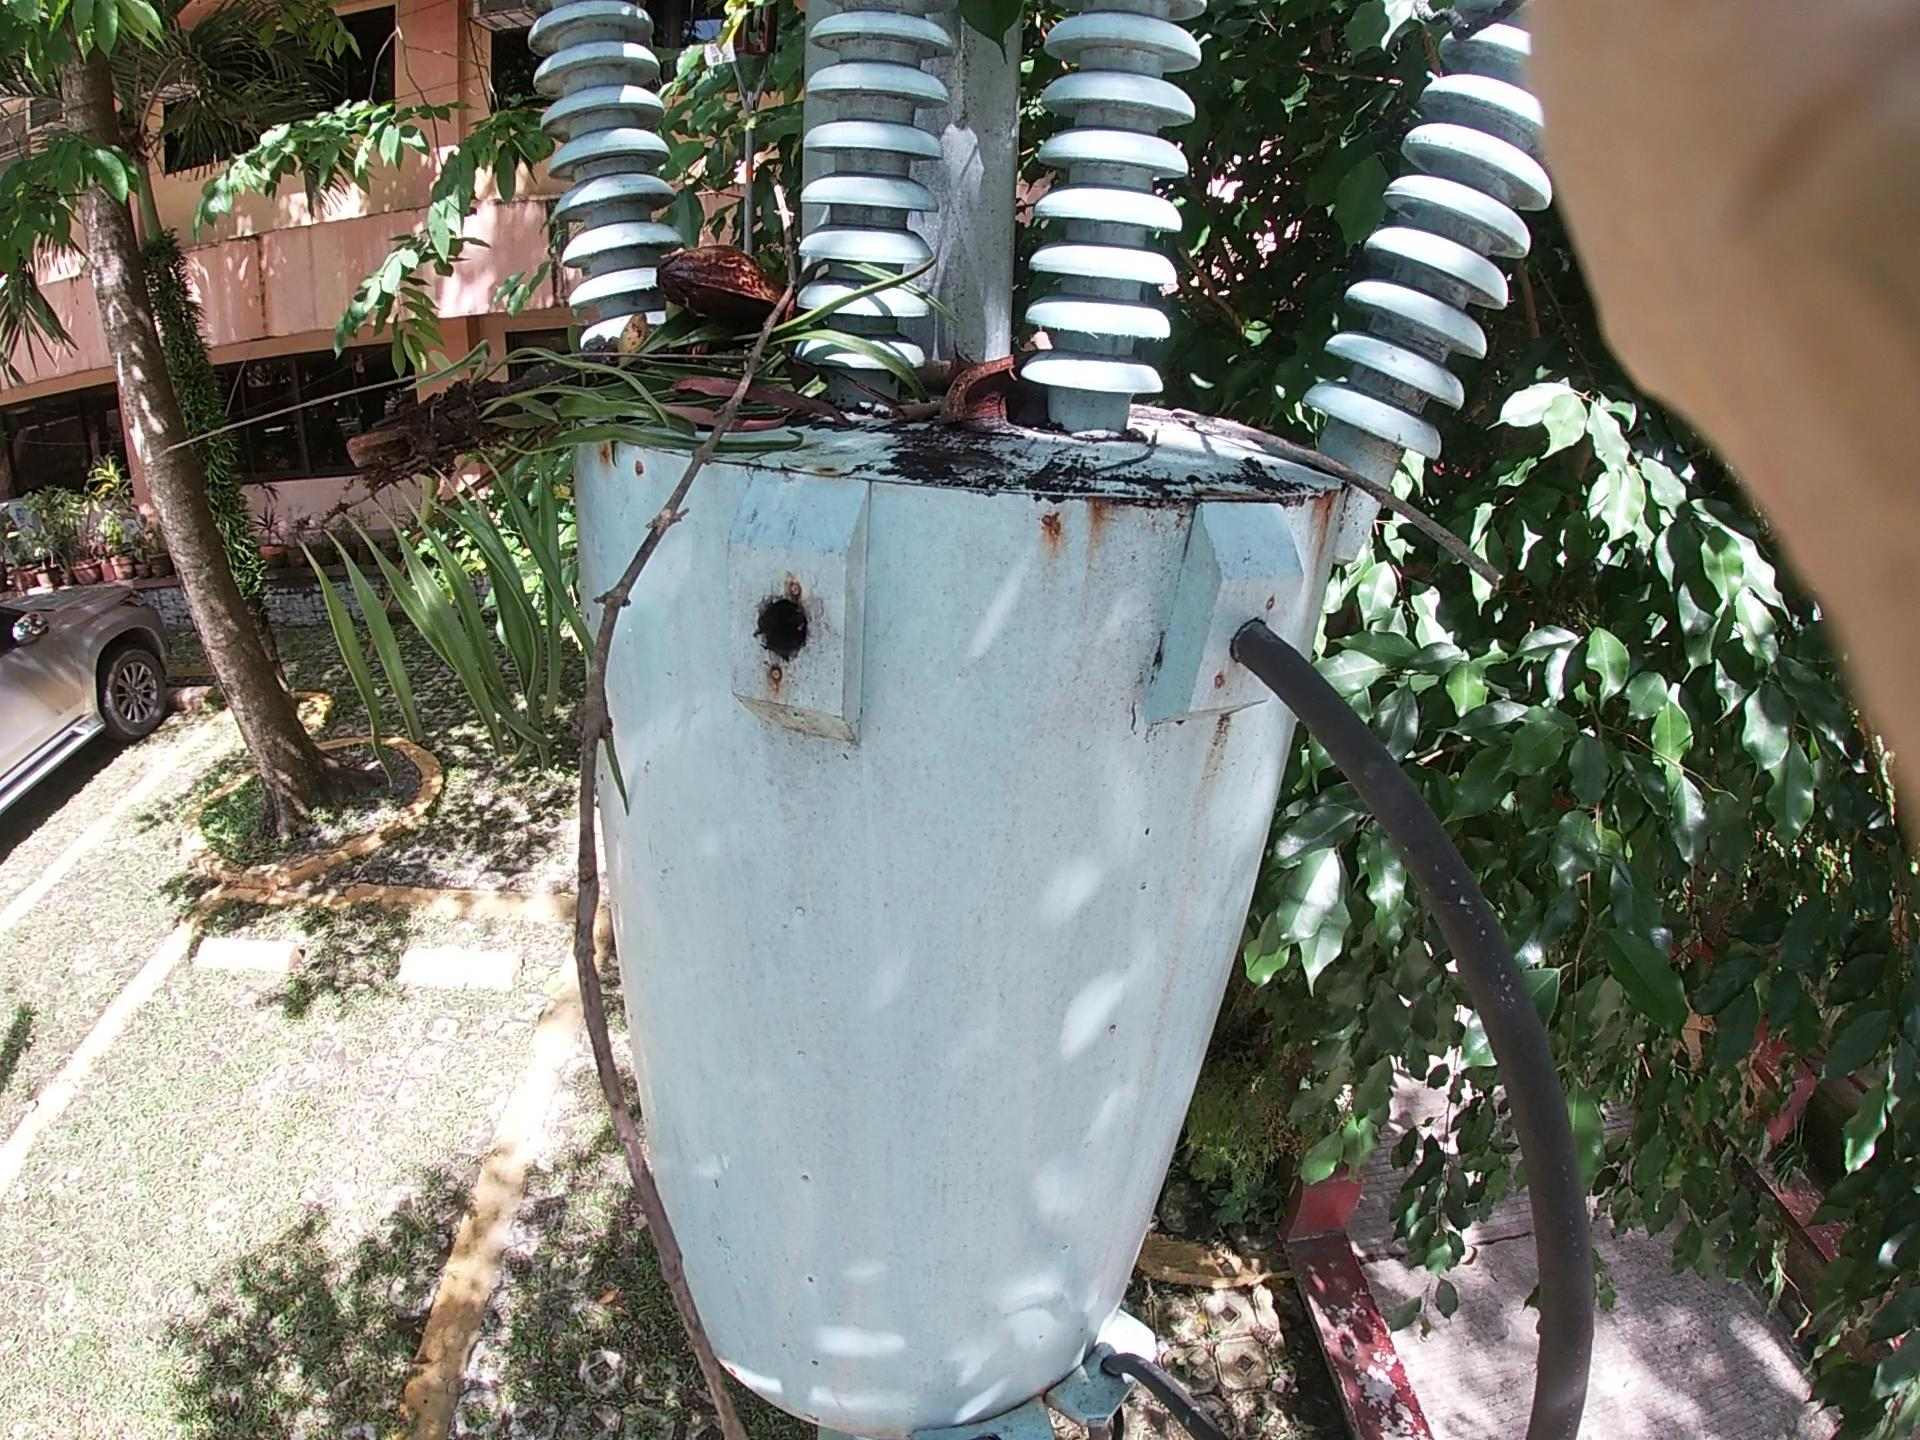branch with leaves: (240, 275, 741, 708)
leaf: (955, 2, 1023, 53)
mahogany fruit: (649, 204, 804, 384), (937, 330, 1048, 514)
tree branch: (522, 189, 766, 1440), (1125, 369, 1569, 672), (875, 392, 952, 433)
